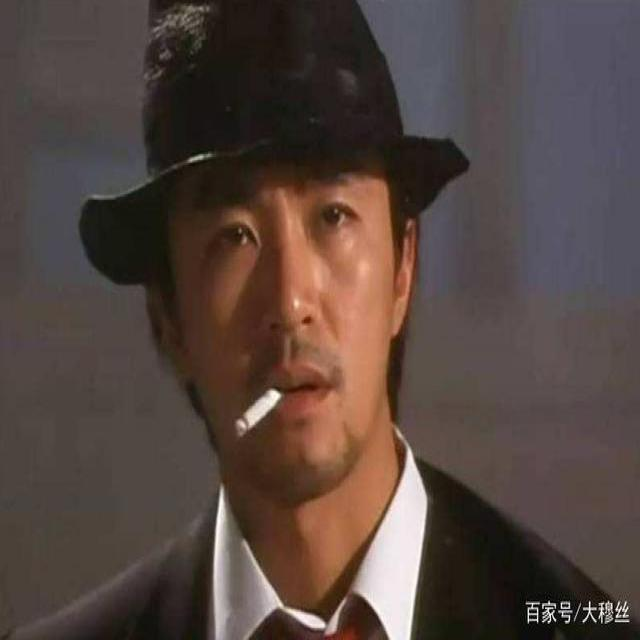cigarette: (235, 377, 292, 438)
